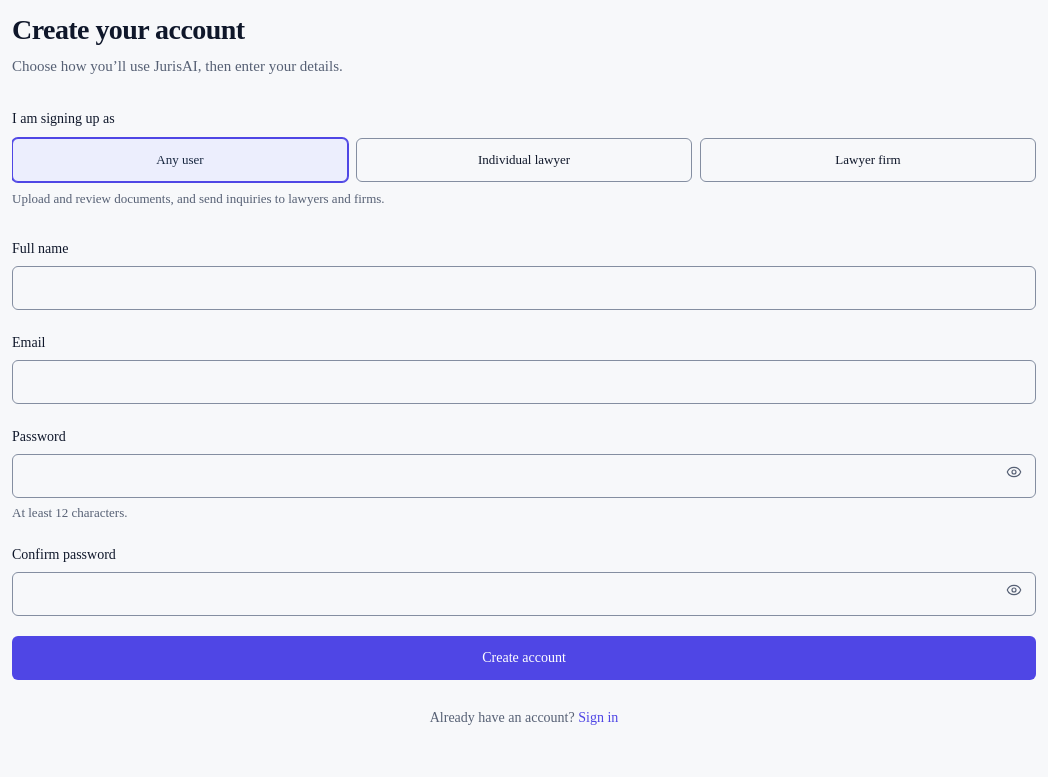
Test case: SignUpForm: success message matches the real auth state › shows the server error (and no success panel) when sign-up fails
The width and height of the screenshot is (1048, 777).
In the field labelled "Full name": (524, 288) [12,266,1036,310], type "Test User"
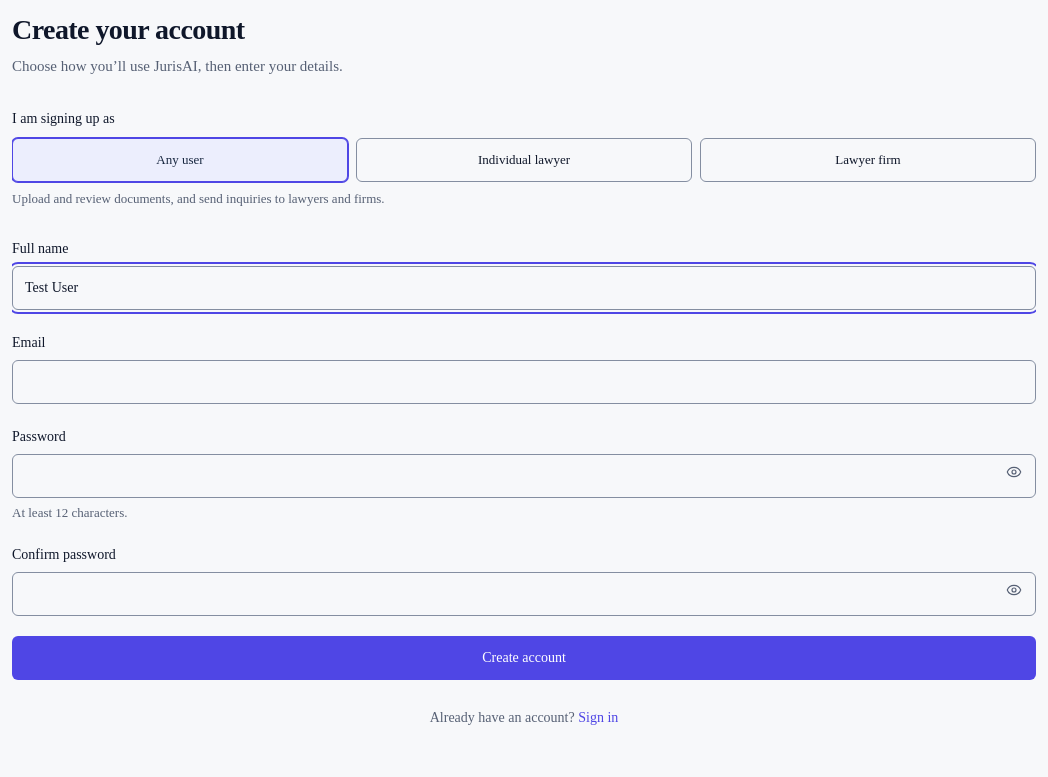
In the field labelled "Email": (524, 382) [12,360,1036,404], type "test@example.com"
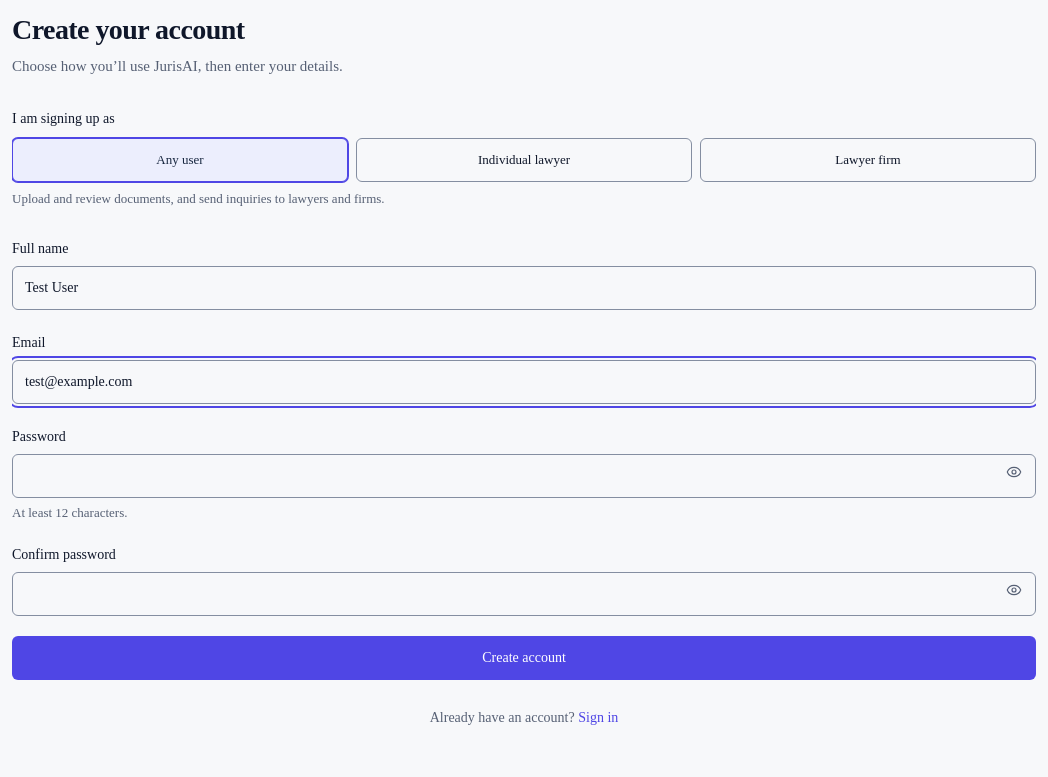
In the password field labelled "Password": (524, 476) [12,454,1036,498], type "SuperSecret123!"
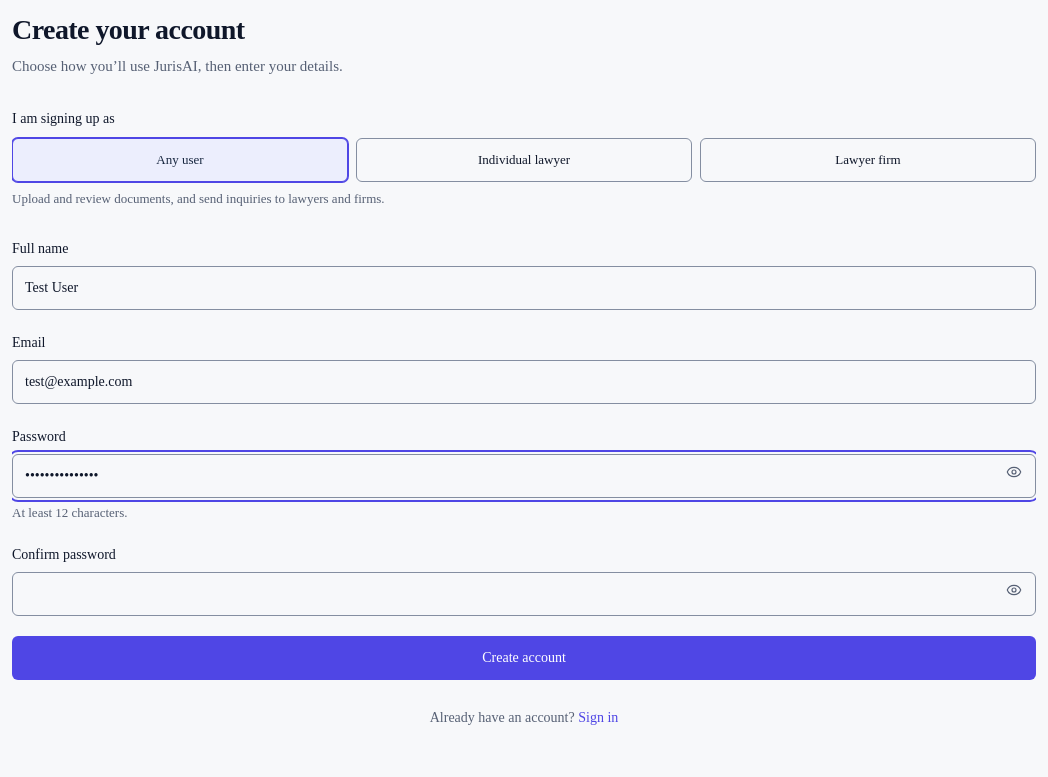
In the password field labelled "Confirm password": (524, 594) [12,572,1036,616], type "SuperSecret123!"
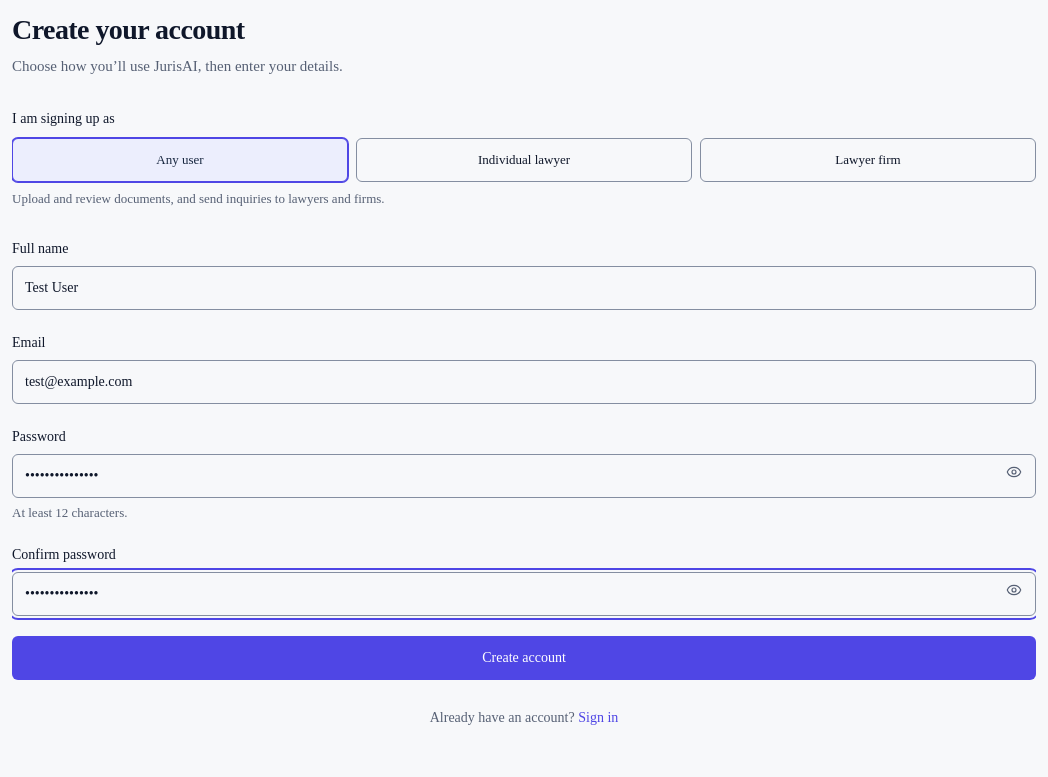
Click the button "Create account": (524, 658) [12,636,1036,680]
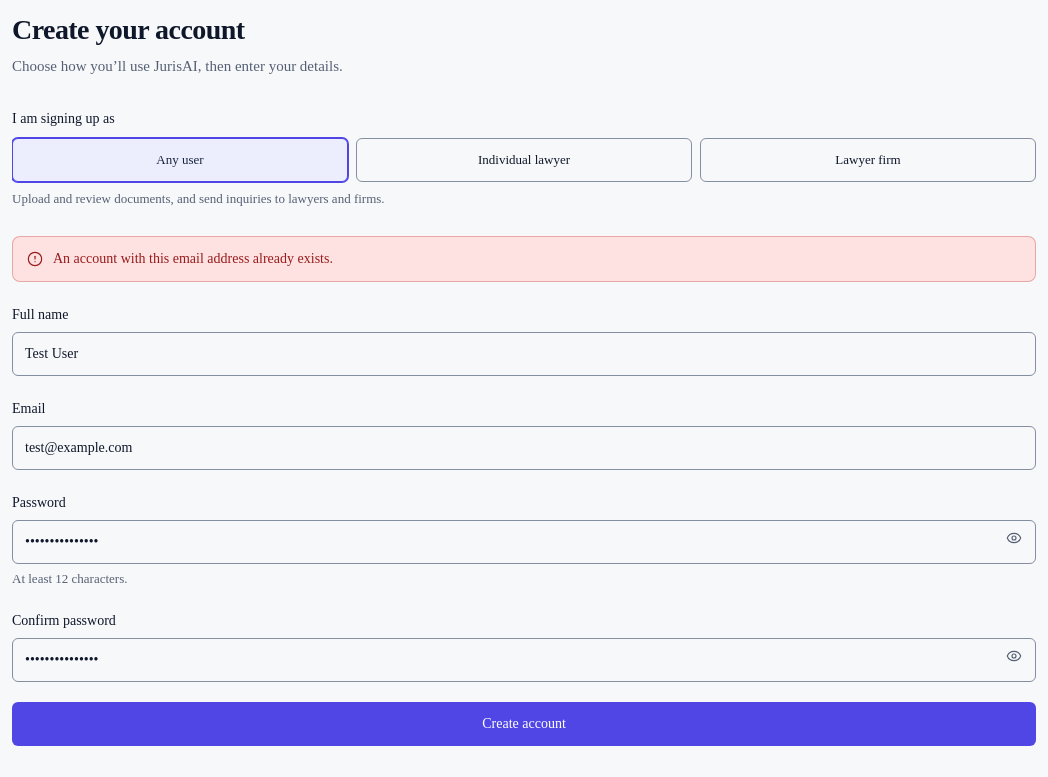
Check: the message reads "An account with this email address already exists.", box [53,251,333,266]
